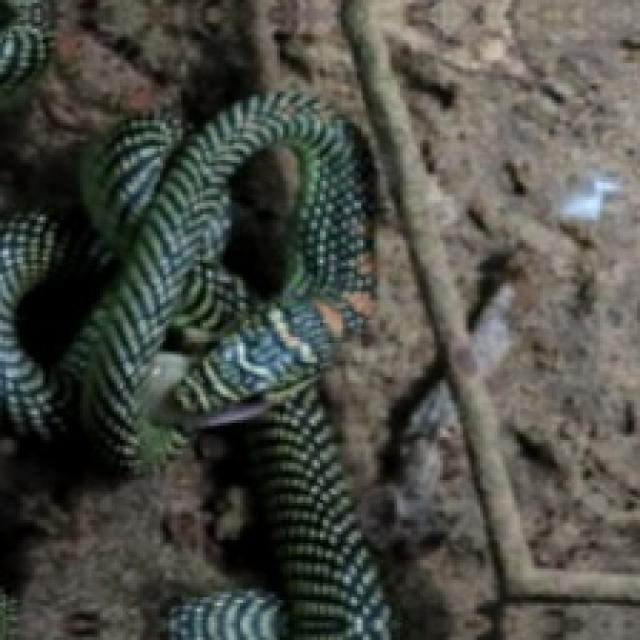paradise tree snake: (0, 94, 386, 637)
